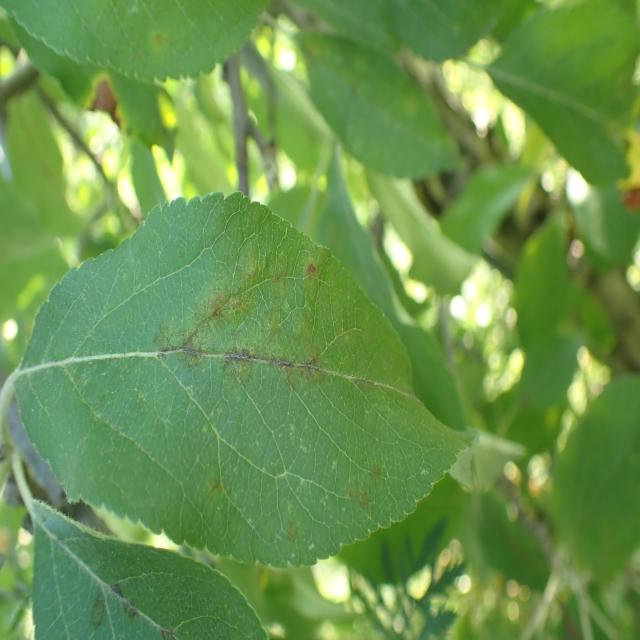scab: (141, 228, 397, 558), (74, 548, 193, 640)
